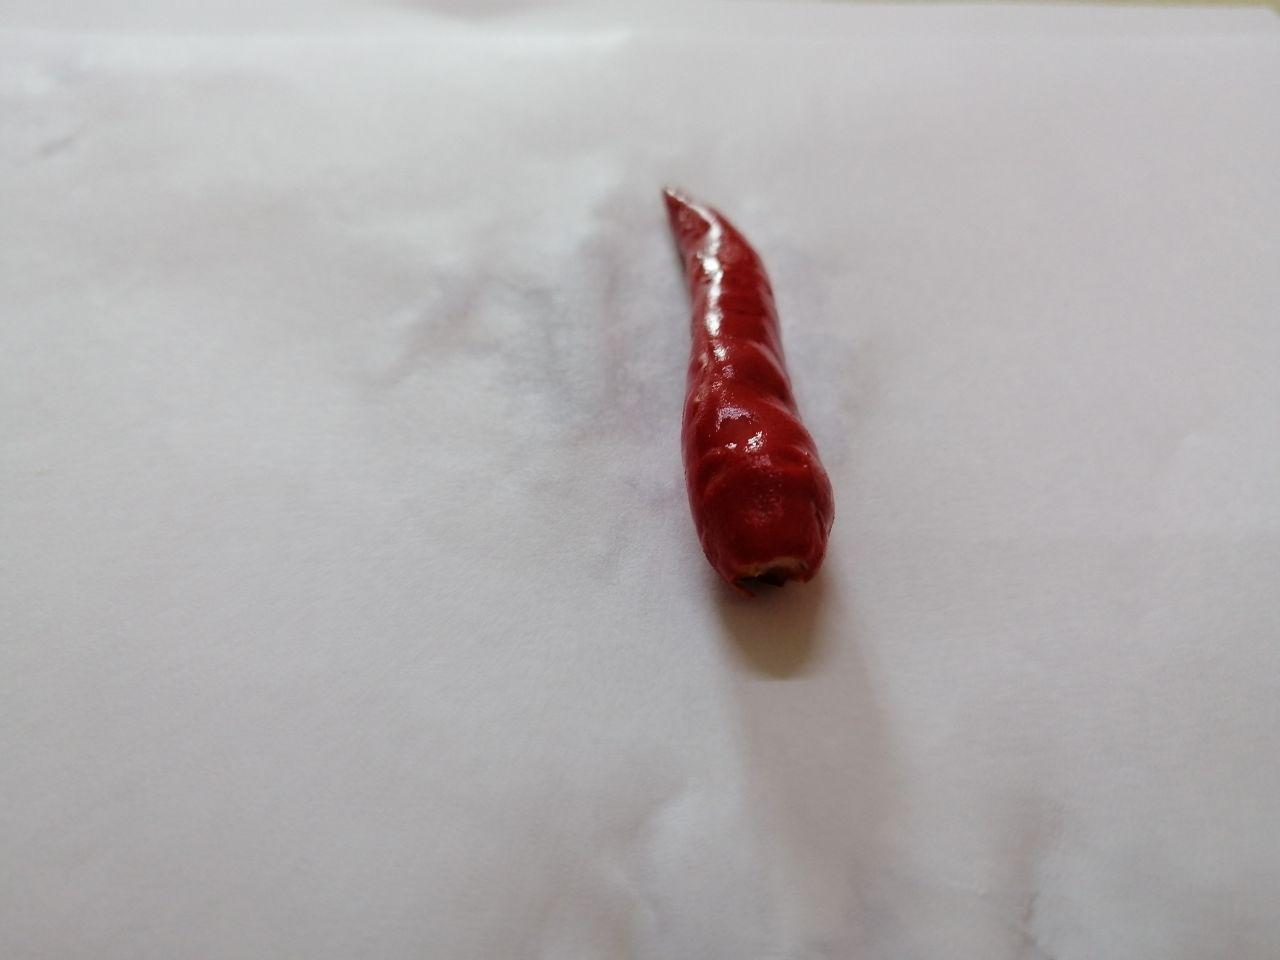lada merah: (624, 169, 859, 617)
